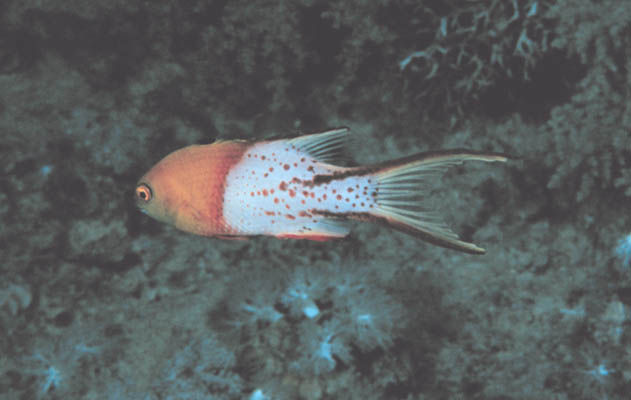fish: (134, 128, 506, 254)
